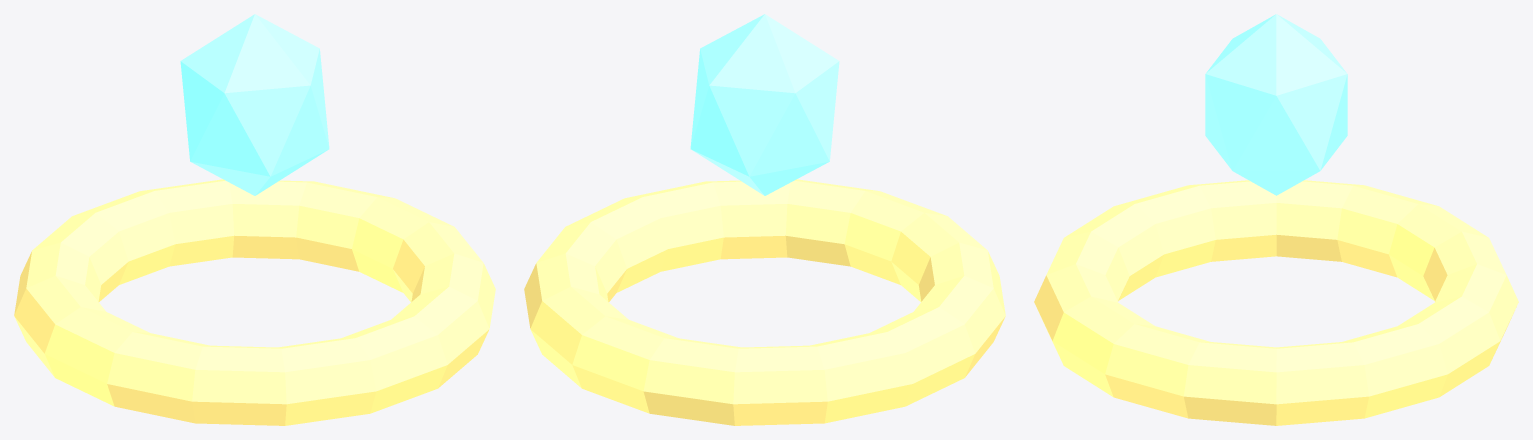
Rendered from ring.glb.
3 views of the same model, side by side, from view 1: azimuth 30°, elevation 25°; view 2: azimuth 150°, elevation 25°; view 3: azimuth 270°, elevation 25° (orthographic).
Visible parts, largest first — view 1: RingBand; view 2: RingBand; view 3: RingBand.
Part boxes in pixels (x1=…): RingBand: x1=14, y1=14, x2=495, y2=425; RingBand: x1=524, y1=14, x2=1005, y2=425; RingBand: x1=1034, y1=14, x2=1518, y2=425.
Size of the model in its own units: 0.58 by 0.43 by 0.58.
